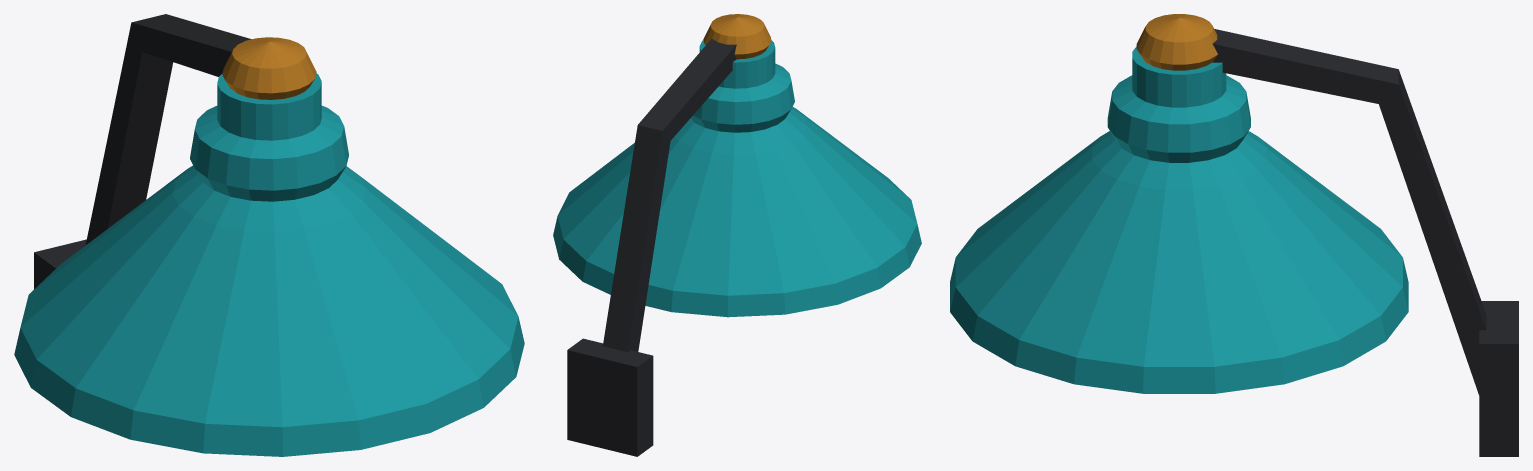
File: SM_Wall_Lamp_01.fbx
3 views of the same model, side by side, from view 1: azimuth 30°, elevation 25°; view 2: azimuth 150°, elevation 25°; view 3: azimuth 270°, elevation 25° (orthographic). The views are drawn at different scales.
Visible parts, largest first — view 1: SM_Wall_Lamp_01; view 2: SM_Wall_Lamp_01; view 3: SM_Wall_Lamp_01.
Part boxes in pixels (x1,y1,x2,y2): SM_Wall_Lamp_01: (14, 14, 524, 456); SM_Wall_Lamp_01: (553, 14, 921, 456); SM_Wall_Lamp_01: (950, 14, 1518, 456).
Size of the model in its own units: 0.405 by 0.407 by 0.5025.
1 material, 1 textured.
